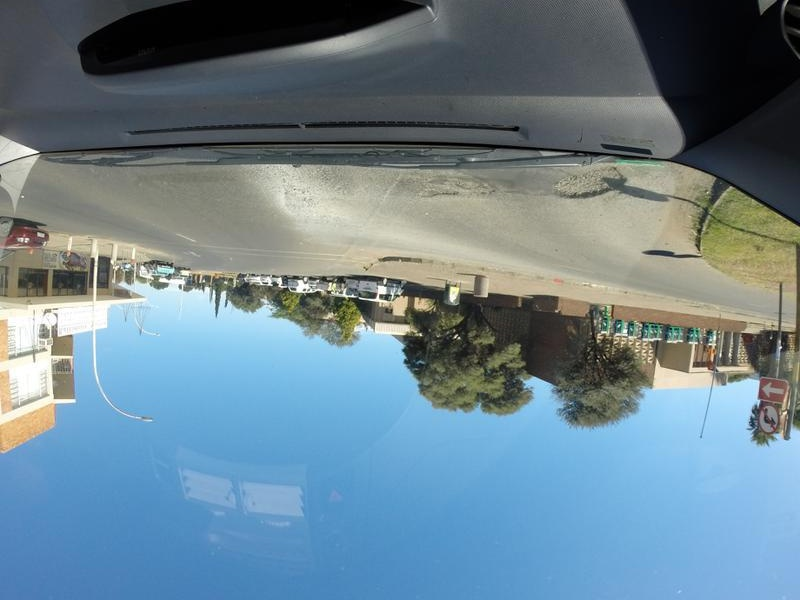pothole: (551, 161, 629, 205), (419, 175, 505, 209)
